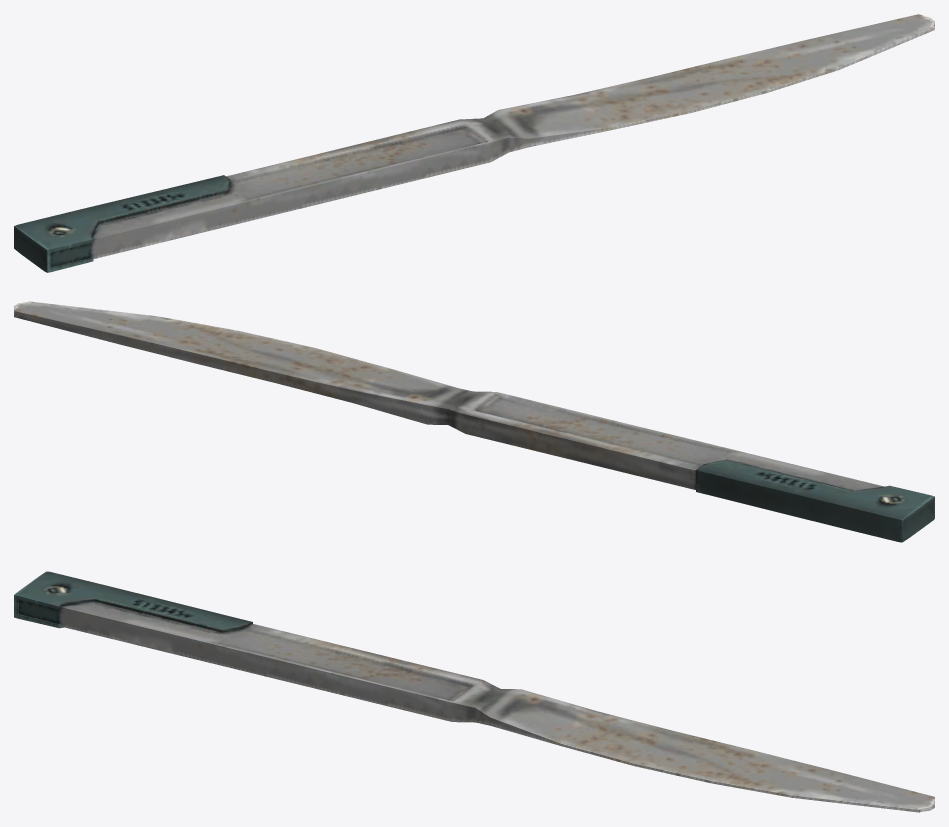
File: cutlery_knife.DAE
3 views of the same model, one above another, from view 1: azimuth 30°, elevation 25°; view 2: azimuth 150°, elevation 25°; view 3: azimuth 330°, elevation 25° (orthographic).
Visible parts, largest first — view 1: cutlery_knife; view 2: cutlery_knife; view 3: cutlery_knife.
Part boxes in pixels (<box>): cutlery_knife: <box>14,14,934,272</box>; cutlery_knife: <box>14,301,934,542</box>; cutlery_knife: <box>14,571,934,812</box>.
Bounding box in the file's own units: 0.1948 × 0.005 × 0.0152.
